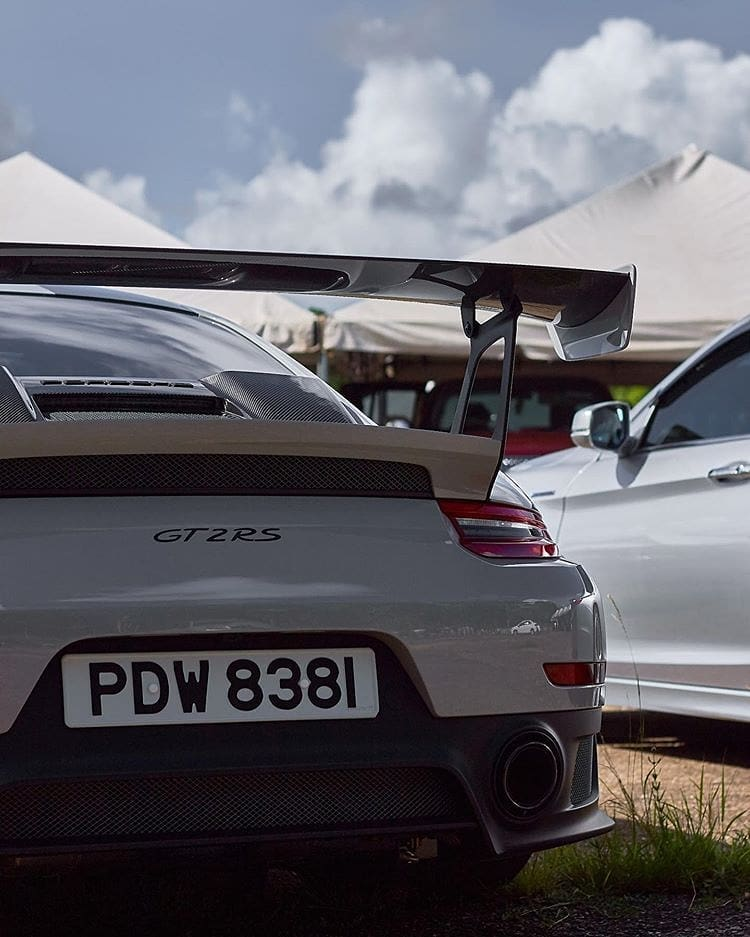License-Plate: (65, 658, 373, 729)
